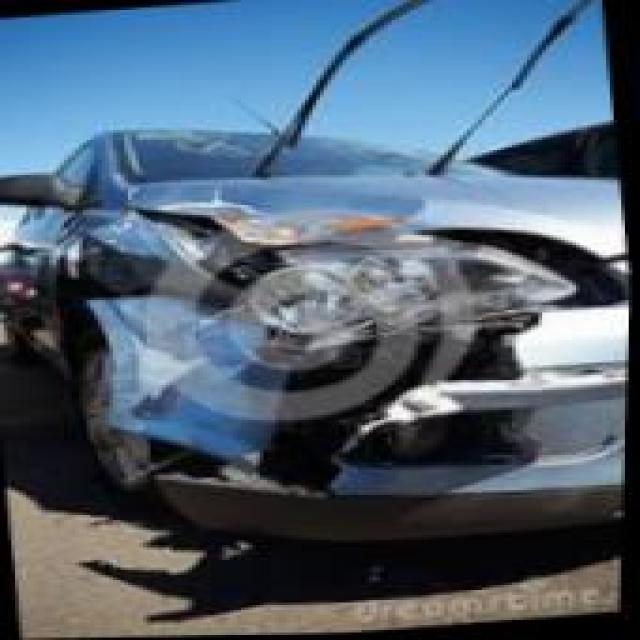Bonnet: (112, 185, 288, 285)
Bumper: (113, 311, 630, 529)
Fender: (64, 215, 177, 346)
Light: (183, 236, 629, 365)
